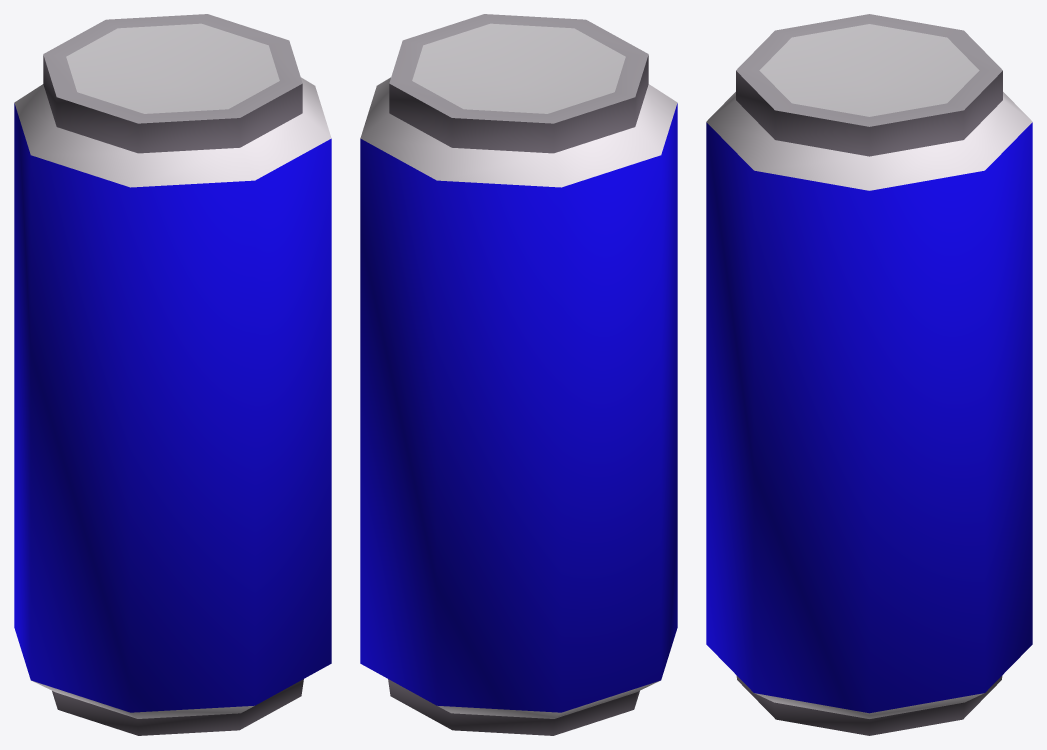
File: Can2.fbx
3 views of the same model, side by side, from view 1: azimuth 30°, elevation 25°; view 2: azimuth 150°, elevation 25°; view 3: azimuth 270°, elevation 25° (orthographic).
Visible parts, largest first — view 1: Can2; view 2: Can2; view 3: Can2.
Boxes of the visible parts, x1=… form: Can2: x1=14, y1=14, x2=331, y2=735; Can2: x1=360, y1=14, x2=677, y2=735; Can2: x1=706, y1=14, x2=1032, y2=735.
Bounding box in the file's own units: 7.48 × 15.41 × 7.48.
